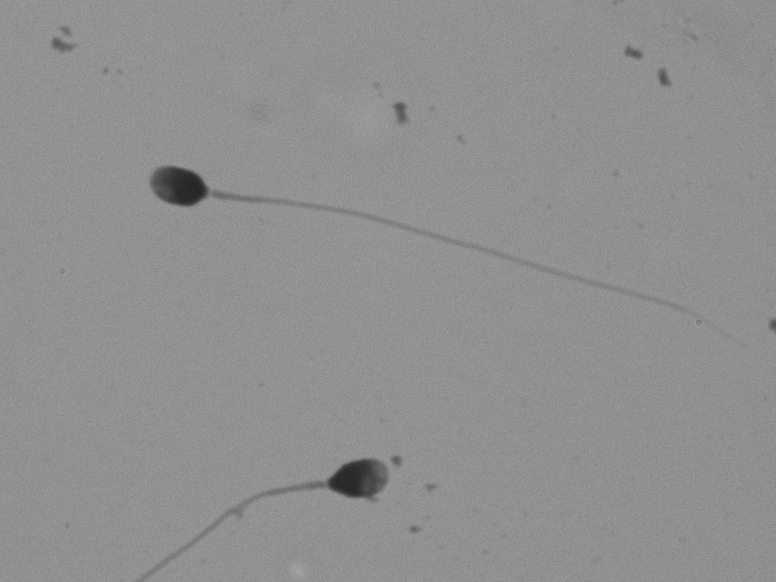Normal: (104, 133, 745, 362)
